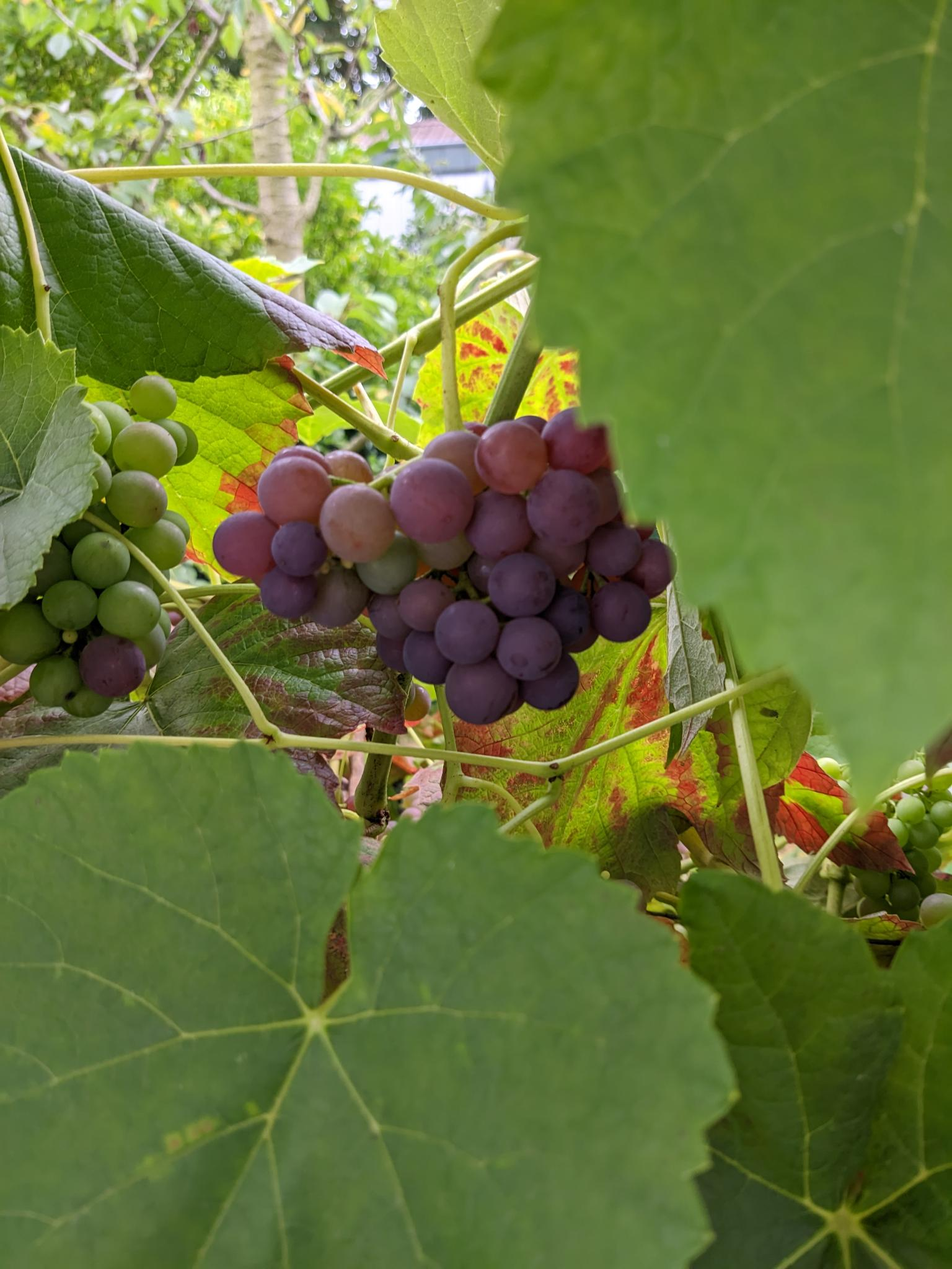Grape Ripe: (214, 412, 673, 723)
Grape Unripe: (0, 376, 196, 716)
